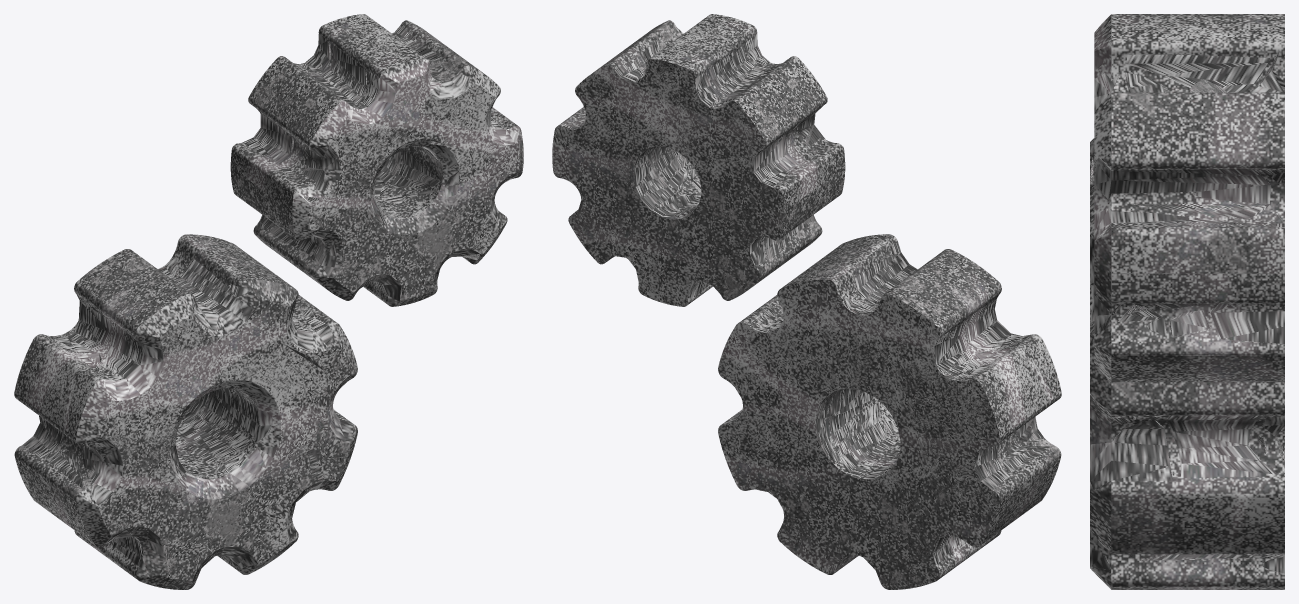
Rendered from The Interlocking Gears.glb.
3 renders of one model, left to right at view 1: azimuth 30°, elevation 25°; view 2: azimuth 150°, elevation 25°; view 3: azimuth 270°, elevation 25°, orthographic. The views are drawn at different scales.
Visible parts, largest first — view 1: Mesh_0, Mesh_0_cell.068, Mesh_0_cell.093, Mesh_0_cell.023, Mesh_0_cell.096, Mesh_0_cell.091, Mesh_0_cell.099, Mesh_0_cell.025, Mesh_0_cell.067, Mesh_0_cell.071, Mesh_0_cell.007, Mesh_0_cell.003 (+17 smaller); view 2: Mesh_0, Mesh_0_cell.076, Mesh_0_cell, Mesh_0_cell.023, Mesh_0_cell.079, Mesh_0_cell.036, Mesh_0_cell.029, Mesh_0_cell.071, Mesh_0_cell.078, Mesh_0_cell.096, Mesh_0_cell.042, Mesh_0_cell.007 (+9 smaller); view 3: Mesh_0, Mesh_0_cell.098, Mesh_0_cell.080, Mesh_0_cell.012, Mesh_0_cell.013, Mesh_0_cell.046, Mesh_0_cell.074, Mesh_0_cell.045, Mesh_0_cell.055, Mesh_0_cell.039, Mesh_0_cell.056, Mesh_0_cell.041 (+6 smaller).
Part boxes in pixels (left/top/right/bottom): Mesh_0: left=14, top=14, right=523, bottom=589; Mesh_0_cell.068: left=102, top=319, right=221, bottom=429; Mesh_0_cell.093: left=215, top=426, right=323, bottom=526; Mesh_0_cell.023: left=175, top=388, right=272, bottom=464; Mesh_0_cell.096: left=145, top=256, right=265, bottom=342; Mesh_0_cell.091: left=226, top=333, right=323, bottom=406; Mesh_0_cell.099: left=82, top=434, right=148, bottom=505; Mesh_0_cell.025: left=425, top=73, right=480, bottom=168; Mesh_0_cell.067: left=141, top=499, right=219, bottom=557; Mesh_0_cell.071: left=51, top=258, right=130, bottom=352; Mesh_0_cell.007: left=309, top=44, right=366, bottom=104; Mesh_0_cell.003: left=339, top=109, right=415, bottom=179; Mesh_0: left=552, top=14, right=1061, bottom=589; Mesh_0_cell.076: left=884, top=354, right=998, bottom=470; Mesh_0_cell: left=917, top=445, right=1010, bottom=537; Mesh_0_cell.023: left=829, top=388, right=896, bottom=477; Mesh_0_cell.079: left=723, top=104, right=798, bottom=206; Mesh_0_cell.036: left=581, top=147, right=679, bottom=217; Mesh_0_cell.029: left=801, top=297, right=887, bottom=398; Mesh_0_cell.071: left=887, top=287, right=990, bottom=380; Mesh_0_cell.078: left=852, top=446, right=931, bottom=552; Mesh_0_cell.096: left=851, top=238, right=948, bottom=305; Mesh_0_cell.042: left=656, top=72, right=721, bottom=158; Mesh_0_cell.007: left=708, top=46, right=777, bottom=97; Mesh_0: left=1090, top=14, right=1284, bottom=589; Mesh_0_cell.098: left=1095, top=157, right=1270, bottom=219; Mesh_0_cell.080: left=1167, top=415, right=1278, bottom=477; Mesh_0_cell.012: left=1090, top=419, right=1172, bottom=489; Mesh_0_cell.013: left=1126, top=54, right=1269, bottom=92; Mesh_0_cell.046: left=1210, top=303, right=1284, bottom=381; Mesh_0_cell.074: left=1094, top=208, right=1256, bottom=309; Mesh_0_cell.045: left=1140, top=554, right=1284, bottom=573; Mesh_0_cell.055: left=1170, top=310, right=1222, bottom=355; Mesh_0_cell.039: left=1250, top=51, right=1284, bottom=182; Mesh_0_cell.056: left=1111, top=304, right=1166, bottom=355; Mesh_0_cell.041: left=1125, top=72, right=1168, bottom=92.
Bounding box in the file's own units: 0.2349 × 0.2375 × 0.0629.
Materials: 2 (2 with a texture image).
